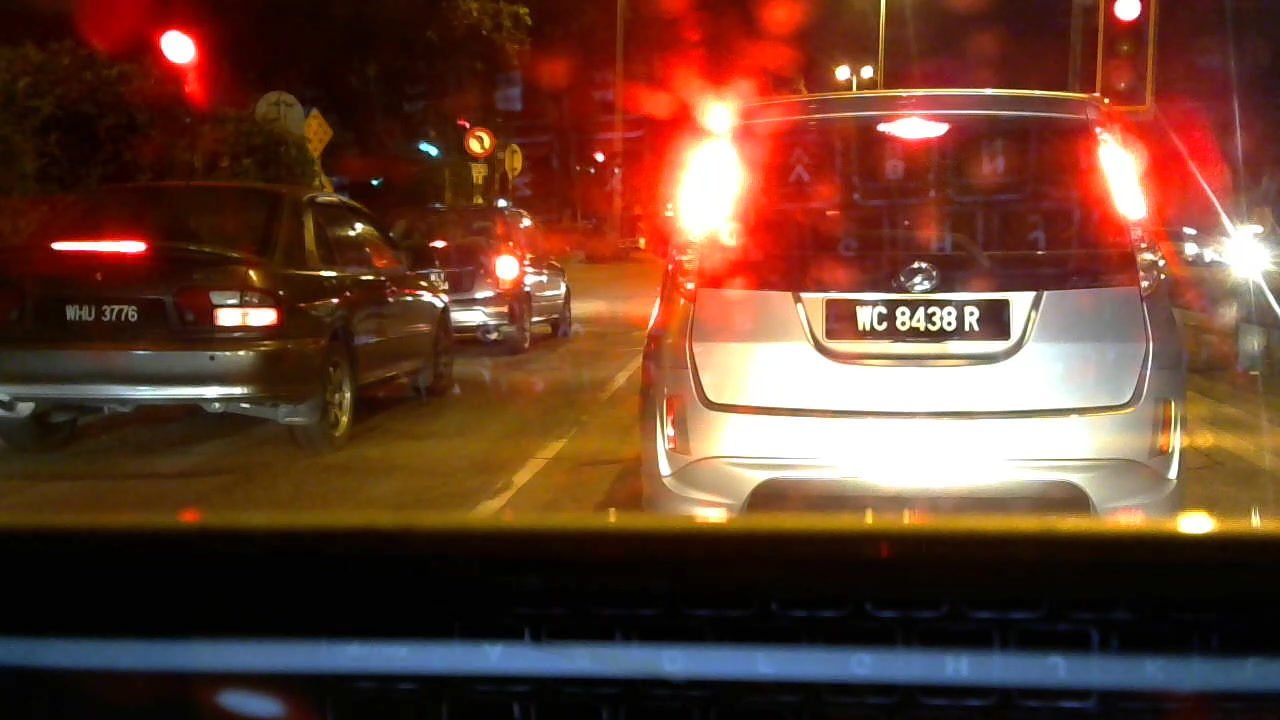Car: (625, 71, 1204, 509), (7, 173, 454, 456), (418, 198, 587, 346)
